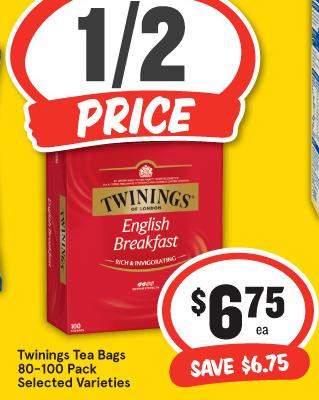description_block: (7, 341, 144, 395)
price_main: (163, 250, 308, 344)
product_image_block: (22, 121, 230, 333)
promo_text_block: (159, 341, 313, 387)
